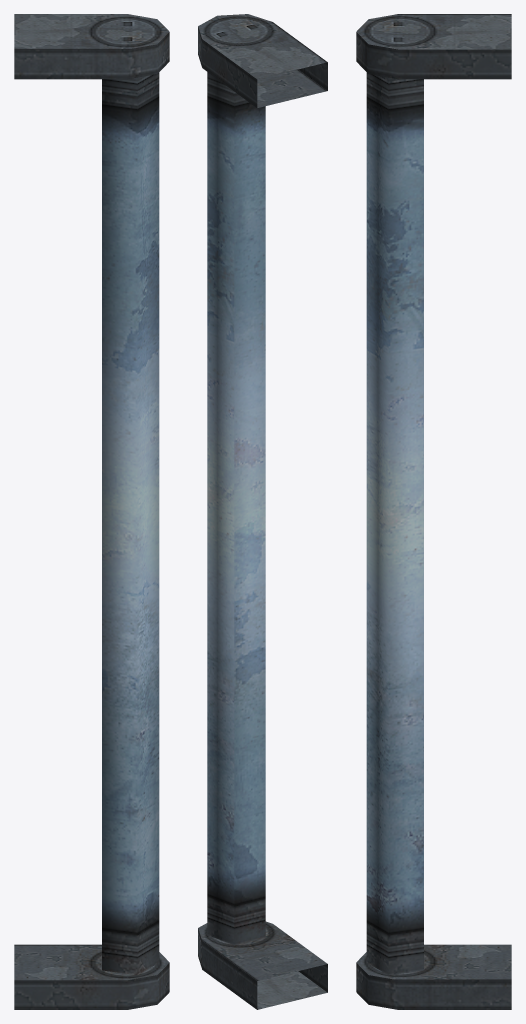
Rendered from Light1_1.fbx.
3 views of the same model, side by side, from view 1: azimuth 90°, elevation 25°; view 2: azimuth 210°, elevation 25°; view 3: azimuth 270°, elevation 25° (orthographic). The views are drawn at different scales.
Visible parts, largest first — view 1: polySurface15; view 2: polySurface15; view 3: polySurface15.
Part boxes in pixels (<box>): polySurface15: <box>14,14,169,1009</box>; polySurface15: <box>198,14,327,1009</box>; polySurface15: <box>356,14,511,1009</box>.
Bounding box in the file's own units: 0.0824 × 1.04 × 0.1522.
1 material, 1 textured.
